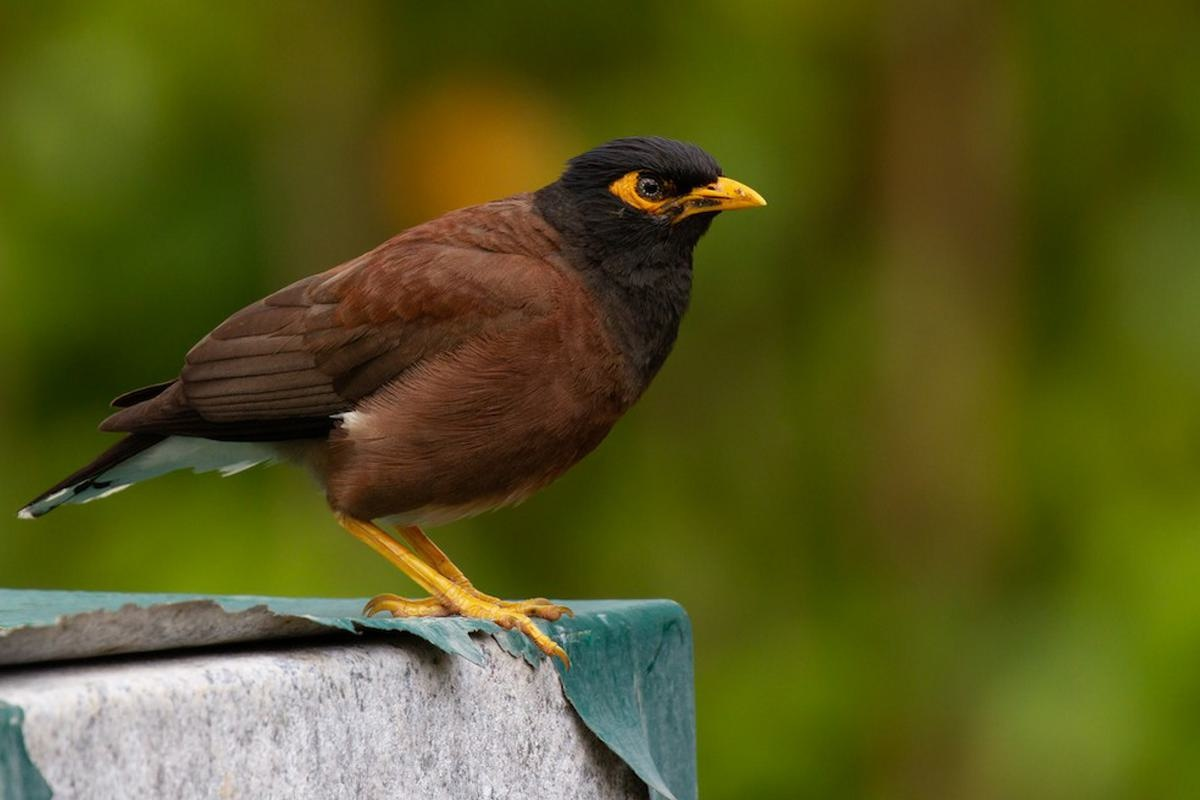myna: (160, 132, 815, 592)
